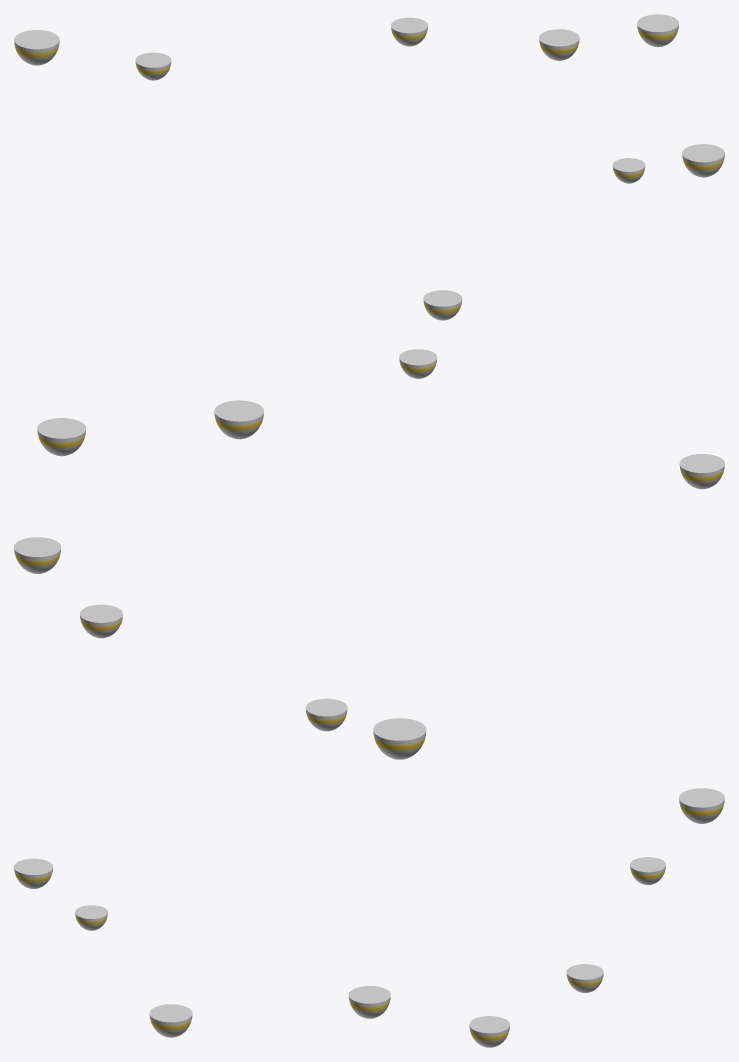
Rendered from CD_JZ_vr_walllight01.FBX.
The picture shows the model from 3 angles, top to bottom: view 1: azimuth 30°, elevation 25°; view 2: azimuth 150°, elevation 25°; view 3: azimuth 270°, elevation 25°; orthographic projection. The views are drawn at different scales.
Parts seen in each view (by area): view 1: CD_JZ_vr_walllight01; view 2: CD_JZ_vr_walllight01; view 3: CD_JZ_vr_walllight01.
Part boxes in pixels (<box>): CD_JZ_vr_walllight01: <box>14,14,724,320</box>; CD_JZ_vr_walllight01: <box>14,349,724,759</box>; CD_JZ_vr_walllight01: <box>14,788,724,1047</box>.
Size of the model in its own units: 1666 by 259 by 2068.
